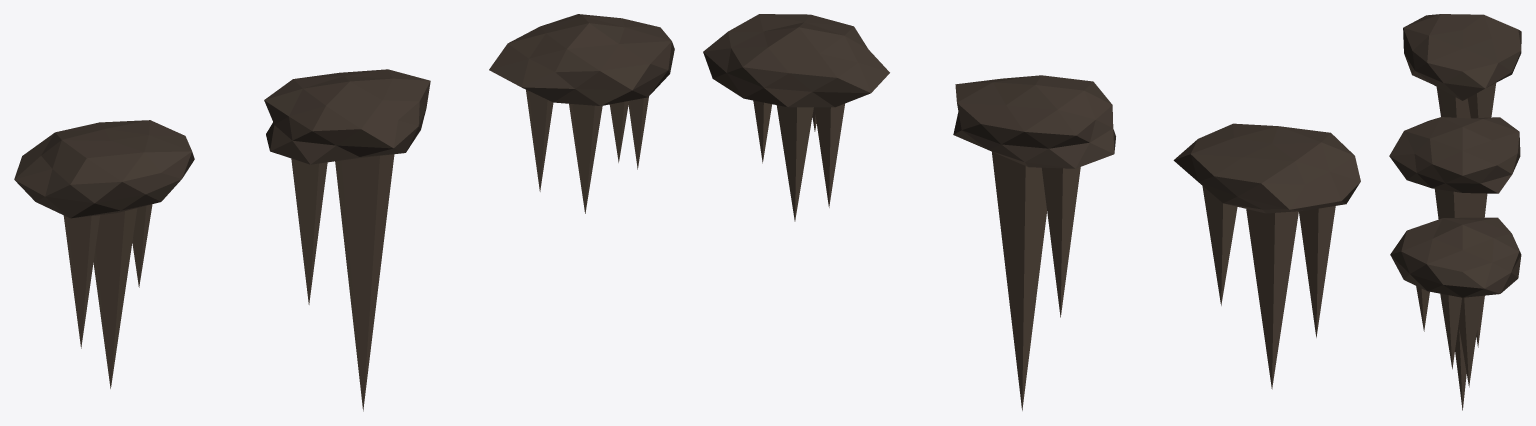
The model's file is stalaktit_v001.glb.
The picture shows the model from 3 angles, left to right: view 1: azimuth 30°, elevation 25°; view 2: azimuth 150°, elevation 25°; view 3: azimuth 270°, elevation 25°; orthographic projection. The views are drawn at different scales.
Parts seen in each view (by area): view 1: stalaktit_b, stalaktit_a, stalaktit_c; view 2: stalaktit_b, stalaktit_a, stalaktit_c; view 3: stalaktit_c, stalaktit_b, stalaktit_a.
Part boxes in pixels (x1=…): stalaktit_b: x1=264, y1=69, x2=430, y2=411; stalaktit_a: x1=14, y1=120, x2=194, y2=388; stalaktit_c: x1=489, y1=14, x2=674, y2=213; stalaktit_b: x1=953, y1=75, x2=1115, y2=410; stalaktit_a: x1=1173, y1=123, x2=1360, y2=389; stalaktit_c: x1=703, y1=14, x2=889, y2=221; stalaktit_c: x1=1390, y1=217, x2=1521, y2=387; stalaktit_b: x1=1389, y1=117, x2=1520, y2=410; stalaktit_a: x1=1403, y1=14, x2=1521, y2=118.
Bounding box in the file's own units: 4.86 × 2.4 × 1.03.
